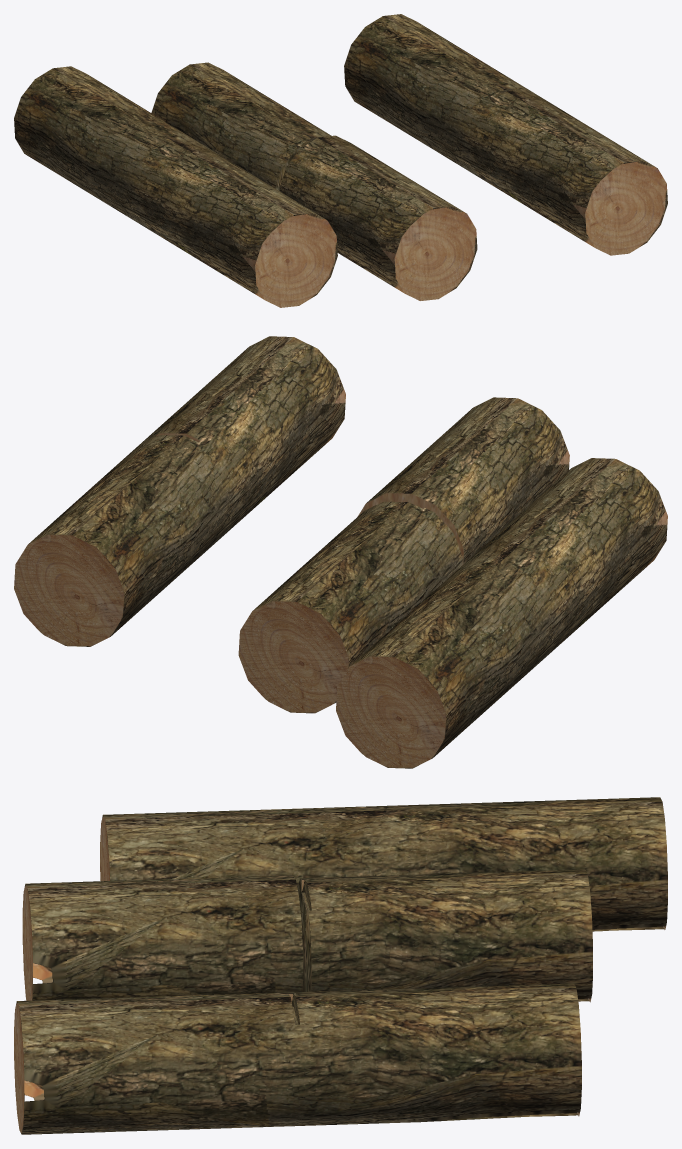
Rendered from wood and axe.fbx.
The picture shows the model from 3 angles, top to bottom: view 1: azimuth 30°, elevation 25°; view 2: azimuth 150°, elevation 25°; view 3: azimuth 270°, elevation 25°; orthographic projection. The views are drawn at different scales.
Parts seen in each view (by area): view 1: Outside_Log_10.012, Outside_Log_10.015, Outside_Log_10.013, Outside_Log_10.014; view 2: Outside_Log_10.012, Outside_Log_10.015, Outside_Log_10.014, Outside_Log_10.013; view 3: Outside_Log_10.012, Outside_Log_10.015, Outside_Log_10.014, Outside_Log_10.013.
Boxes of the visible parts, box(x1,y1,x2,y2) form: Outside_Log_10.012: box(344, 14, 667, 255); Outside_Log_10.015: box(14, 66, 337, 307); Outside_Log_10.013: box(279, 135, 477, 300); Outside_Log_10.014: box(151, 62, 331, 190); Outside_Log_10.012: box(14, 336, 345, 646); Outside_Log_10.015: box(336, 458, 667, 768); Outside_Log_10.014: box(238, 501, 462, 713); Outside_Log_10.013: box(357, 397, 569, 565); Outside_Log_10.012: box(14, 983, 581, 1134); Outside_Log_10.015: box(100, 797, 667, 931); Outside_Log_10.014: box(297, 869, 592, 1002); Outside_Log_10.013: box(22, 875, 303, 1000).
Size of the model in its own units: 180 by 40.98 by 187.
Materials: 1 (1 with a texture image).
